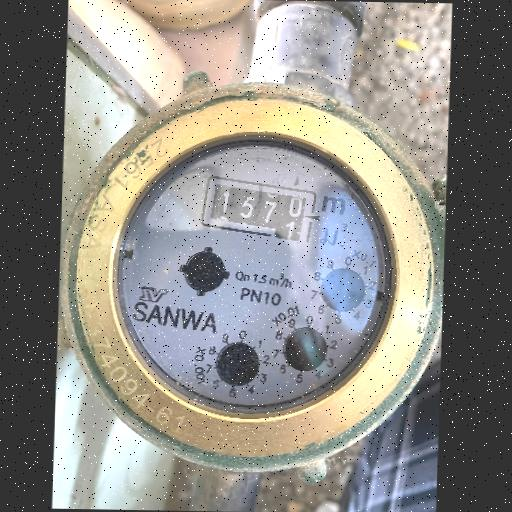0: (274, 194, 306, 241)
1: (210, 185, 240, 223)
5: (233, 188, 263, 226)
7: (255, 192, 283, 230)
border_water_meter_number: (199, 175, 318, 244)
